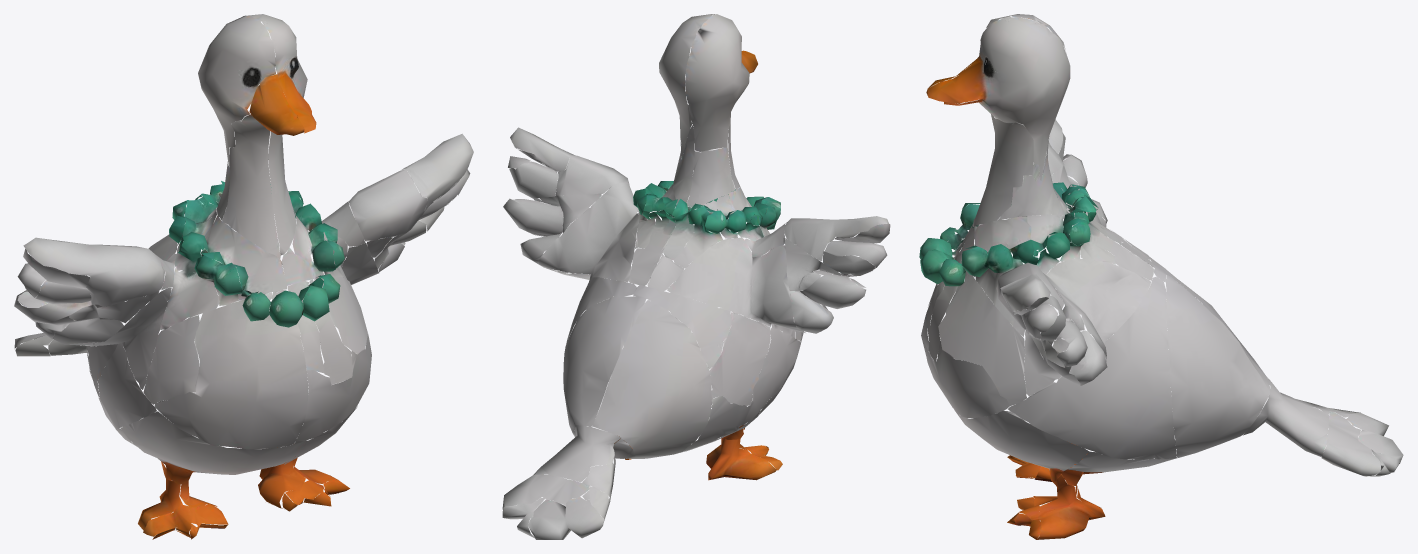
The model's file is goose.glb.
3 views of the same model, side by side, from view 1: azimuth 30°, elevation 25°; view 2: azimuth 150°, elevation 25°; view 3: azimuth 270°, elevation 25° (orthographic). The views are drawn at different scales.
Visible parts, largest first — view 1: tripo_node_e27a1be1-9eee-418a-a12b-e56bab0eb1f5; view 2: tripo_node_e27a1be1-9eee-418a-a12b-e56bab0eb1f5; view 3: tripo_node_e27a1be1-9eee-418a-a12b-e56bab0eb1f5.
Part boxes in pixels (x1,y1,x2,y2): tripo_node_e27a1be1-9eee-418a-a12b-e56bab0eb1f5: (14,14,473,539); tripo_node_e27a1be1-9eee-418a-a12b-e56bab0eb1f5: (502,14,890,539); tripo_node_e27a1be1-9eee-418a-a12b-e56bab0eb1f5: (919,14,1403,539).
Bounding box in the file's own units: 0.9291 × 1 × 0.9178.
Materials: 1 (1 with a texture image).
